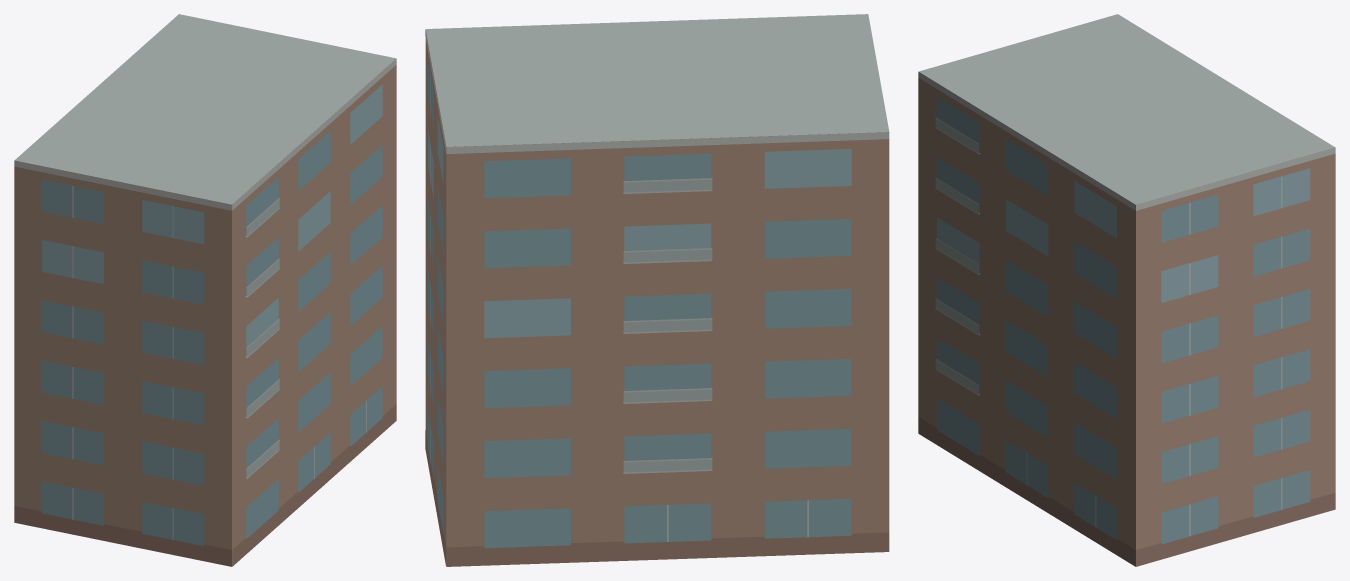
The model's file is survey-upis-32885022.glb.
3 renders of one model, left to right at view 1: azimuth 30°, elevation 25°; view 2: azimuth 150°, elevation 25°; view 3: azimuth 270°, elevation 25°, orthographic. The views are drawn at different scales.
Parts seen in each view (by area): view 1: survey-upis-32885022.tmp; view 2: survey-upis-32885022.tmp; view 3: survey-upis-32885022.tmp.
Boxes of the visible parts, x1,y1,x2,y2 form: survey-upis-32885022.tmp: (14, 14, 396, 566); survey-upis-32885022.tmp: (425, 14, 889, 566); survey-upis-32885022.tmp: (918, 14, 1335, 566).
Size of the model in its own units: 16.34 by 14.45 by 15.09.
